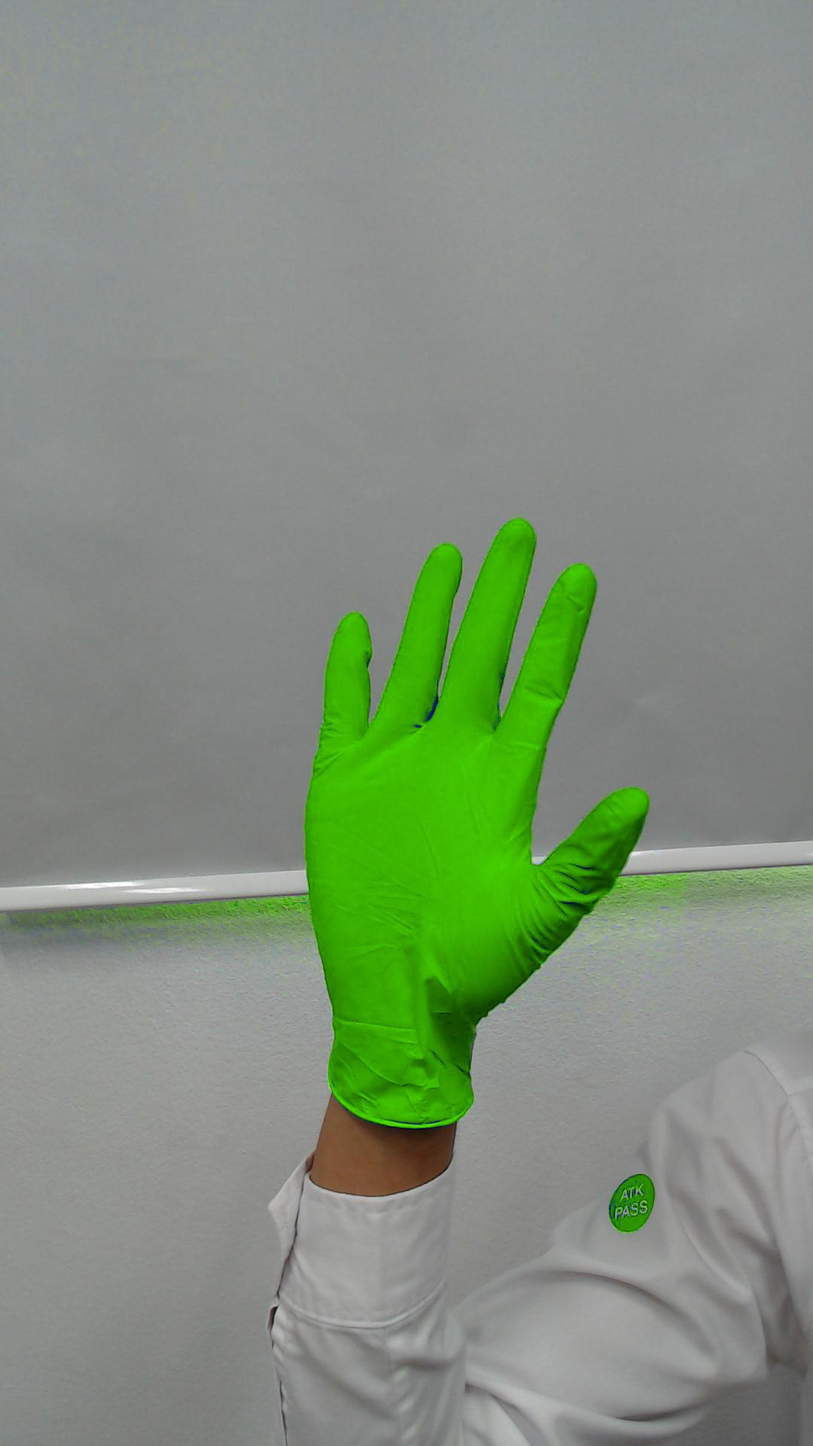gloves: (295, 497, 663, 998)
